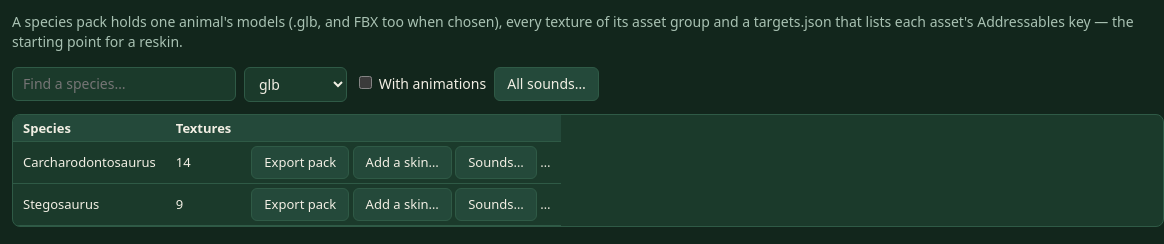
it: SpeciesPanel › lists species and filters them by name
The width and height of the screenshot is (1164, 244).
Expected: the text "Carcharodontosaurus" is shown, [13,142,166,184]
Type "carch" into the search field labelled "Find a species" at (124, 84), box [12,67,236,101]
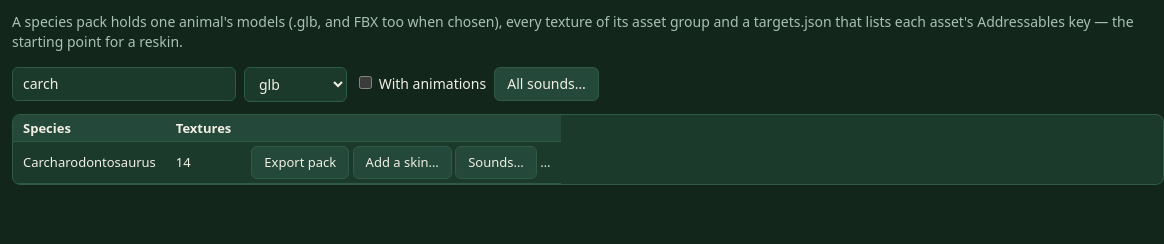
Expected: the text "Carcharodontosaurus" is shown, [13,142,166,184]
Expected: the text "Stegosaurus" is gone
